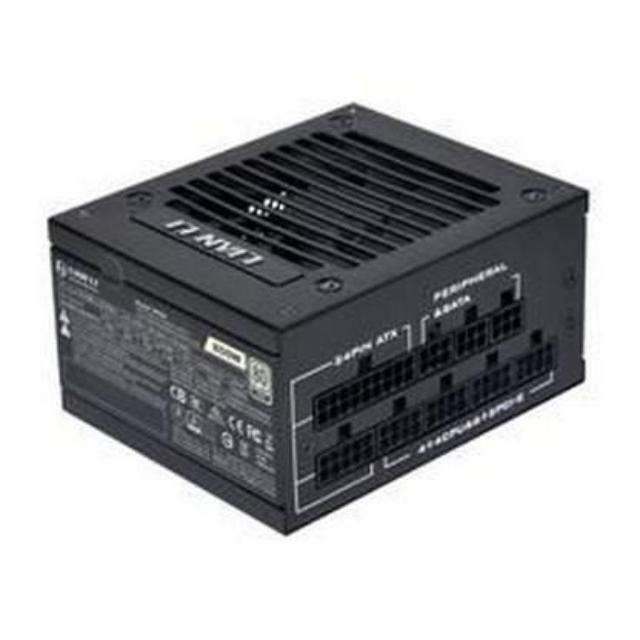PSU: (33, 89, 604, 551)
